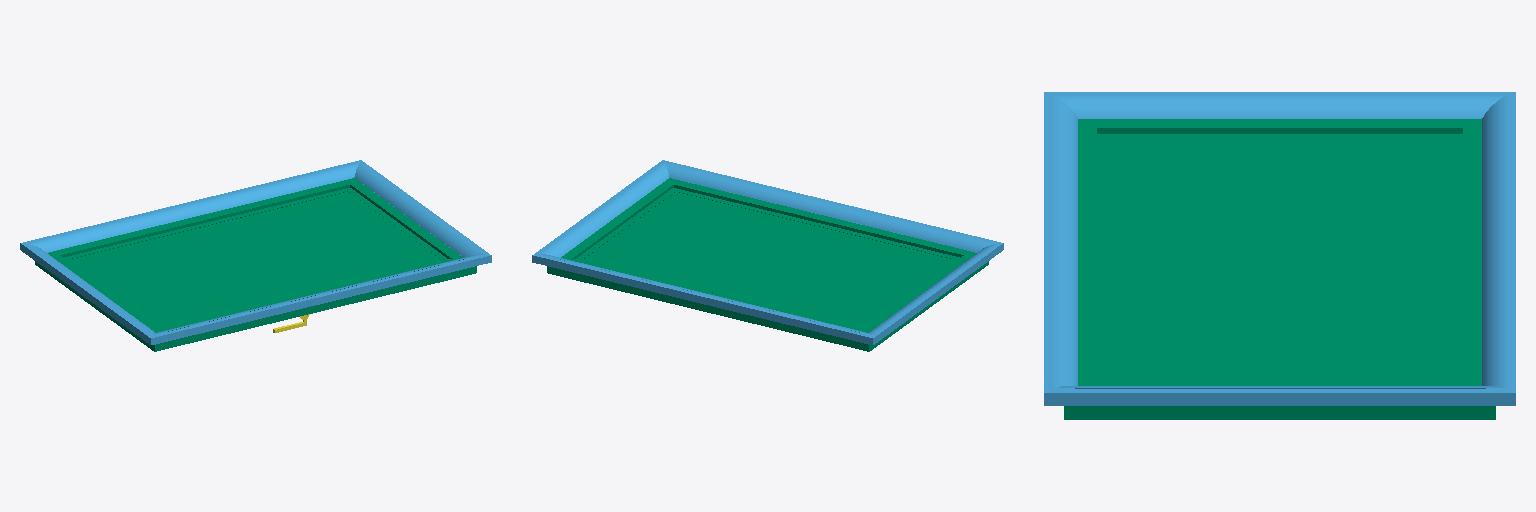
The robot description file, URDF, robot "window":
<?xml version="1.0" ?>
<robot name="window">
	<mujoco>
        <compiler meshdir="texture_stl" balanceinertia="true" discardvisual="false"/>
    </mujoco>
	<link name="base"/>
	<link name="link_0">
		<visual name="out-frame">
			<origin xyz="0 0 0"/>
			<geometry>
				<mesh filename="texture_stl/frame.stl" scale="1 1 1"/>
			</geometry>
		</visual>
		<collision>
			<origin xyz="0 0 0"/>
			<geometry>
				<mesh filename="texture_stl/frame.stl" scale="1 1 1"/>
			</geometry>
		</collision>
	</link>
	<joint name="joint_0" type="fixed">
		<origin rpy="1.570796326794897 0 -1.570796326794897" xyz="0 0 0"/>
		<child link="link_0"/>
		<parent link="base"/>
	</joint>
	<link name="link_1">
		<visual name="surf-board">
			<origin xyz="0.4434260129928589 -0.6856059756569977 0"/>
			<geometry>
				<mesh filename="texture_stl/board.stl" scale="1 1 1"/>
			</geometry>
		</visual>
		<collision>
			<origin xyz="0.4434260129928589 -0.6856059756569977 0"/>
			<geometry>
				<mesh filename="texture_stl/board.stl" scale="1 1 1"/>
			</geometry>
		</collision>
	</link>
	<joint name="joint_1" type="revolute">
		<origin xyz="-0.4434260129928589 0.6856059756569977 0"/>
		<axis xyz="0 -1 0"/>
		<child link="link_1"/>
		<parent link="link_0"/>
		<limit lower="0" upper="1.5079644737231006"/>
	</joint>
	<link name="link_2">
		<visual name="handle">
			<origin xyz="0 0 0"/>
			<geometry>
				<mesh filename="texture_stl/9969501.stl" scale="1.2975733826295381 1.2975733826295381 1.2975733826295381"/>
			</geometry>
		</visual>
		<collision>
			<origin xyz="0 0 0"/>
			<geometry>
				<mesh filename="texture_stl/9969501.stl" scale="1.2975733826295381 1.2975733826295381 1.2975733826295381"/>
			</geometry>
		</collision>
	</link>
	<joint name="joint_2" type="revolute">
		<origin xyz="0.8558267916117128 -0.6856059756569977 0.024626339215227944"/>
		<child link="link_2"/>
		<parent link="link_1"/>
		<axis xyz="0 0 1"/>
		<limit lower="0" upper="1.5079644737231006"/>
	</joint>
</robot>

--- What the picture shows (computed from the rendered views, not written in the file) ---
The picture shows the robot from 3 angles, left to right: view 1: azimuth 30°, elevation 25°; view 2: azimuth 150°, elevation 25°; view 3: azimuth 270°, elevation 25°; orthographic projection.
Robot: window — 4 links, 3 joints (2 revolute, 1 fixed); root link base; default pose: all joints at 0.
Links seen in each view (by area): view 1: link_1, link_0; view 2: link_1, link_0; view 3: link_1, link_0.
Boxes of the visible links, x1,y1,x2,y2 form: link_1: (35,178,476,351); link_0: (20,160,491,344); link_1: (547,178,988,351); link_0: (532,160,1003,344); link_1: (1064,119,1495,419); link_0: (1044,92,1515,405).
Bounding box of the posed robot: 1.46 × 0.9646 × 0.1381 m (x, y, z).
Meshes: 3 distinct files referenced, 3 mesh visuals loaded (3 binary STL).